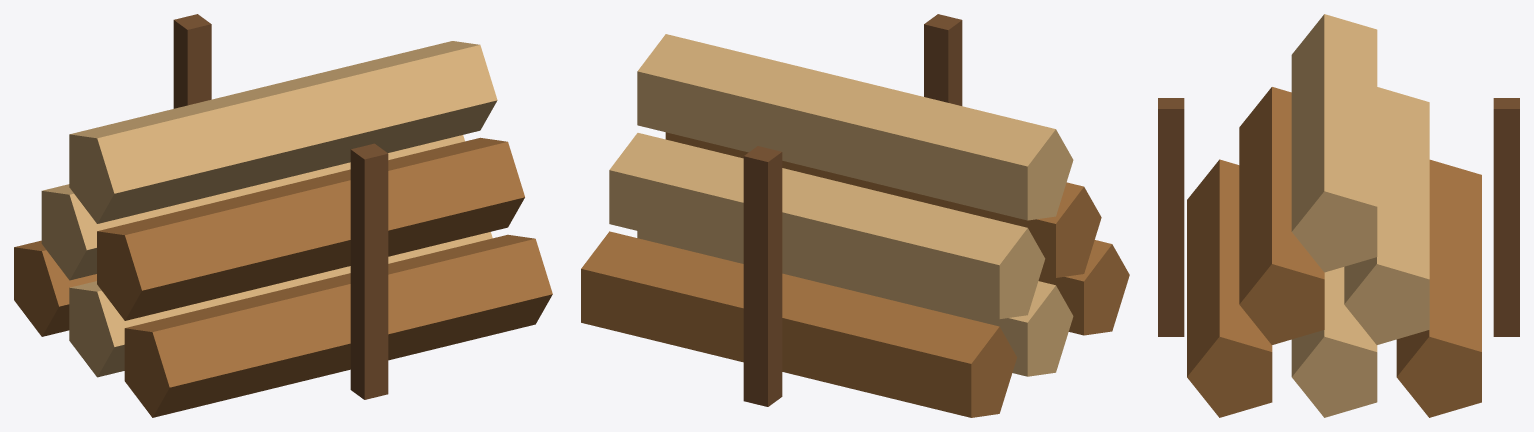
File: pilha_lenha.glb
3 views of the same model, side by side, from view 1: azimuth 30°, elevation 25°; view 2: azimuth 150°, elevation 25°; view 3: azimuth 270°, elevation 25° (orthographic). The views are drawn at different scales.
Parts seen in each view (by area): view 1: corpo; view 2: corpo; view 3: corpo.
Boxes of the visible parts, x1,y1,x2,y2 form: corpo: (14,14,552,417); corpo: (581,14,1129,417); corpo: (1158,14,1519,417).
Size of the model in its own units: 0.4 by 0.2408 by 0.345.
